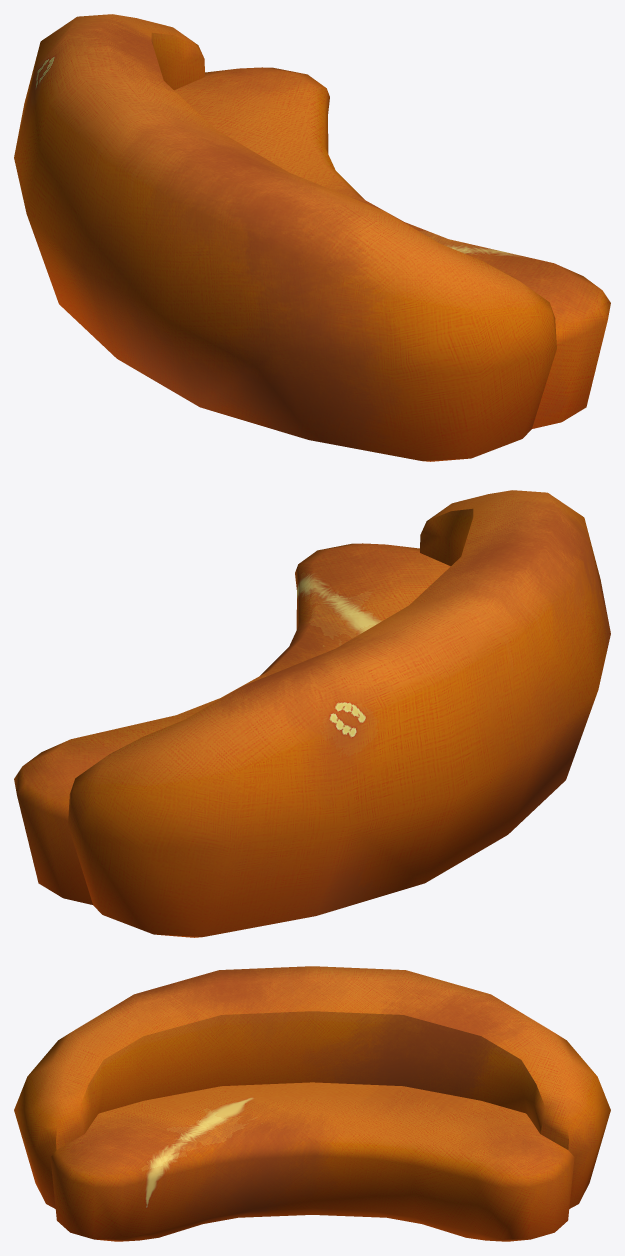
File: PROP_004_Sofa.fbx
The picture shows the model from 3 angles, top to bottom: view 1: azimuth 30°, elevation 25°; view 2: azimuth 150°, elevation 25°; view 3: azimuth 270°, elevation 25°; orthographic projection. The views are drawn at different scales.
Parts seen in each view (by area): view 1: Sofa_002; view 2: Sofa_002; view 3: Sofa_002.
Boxes of the visible parts, x1,y1,x2,y2 form: Sofa_002: (14,14,610,461); Sofa_002: (14,490,610,937); Sofa_002: (14,966,610,1241).
Size of the model in its own units: 2.01 by 1.26 by 3.8.
Materials: 1 (1 with a texture image).
